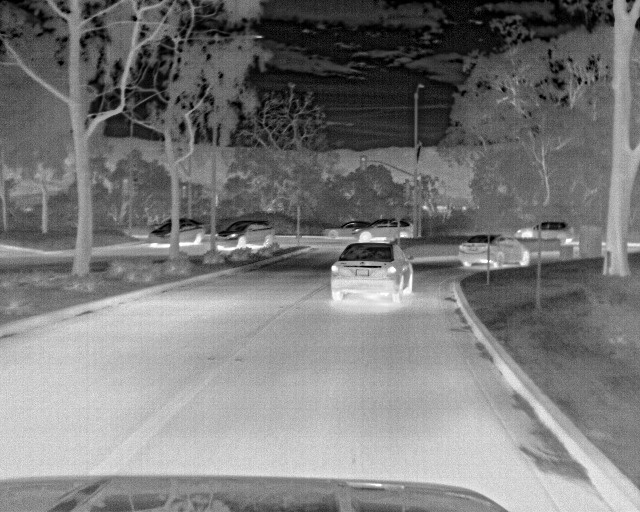vehicle: (330, 241, 413, 308), (459, 233, 534, 270), (324, 217, 417, 246), (215, 221, 277, 256), (152, 216, 205, 251), (519, 221, 578, 248)
